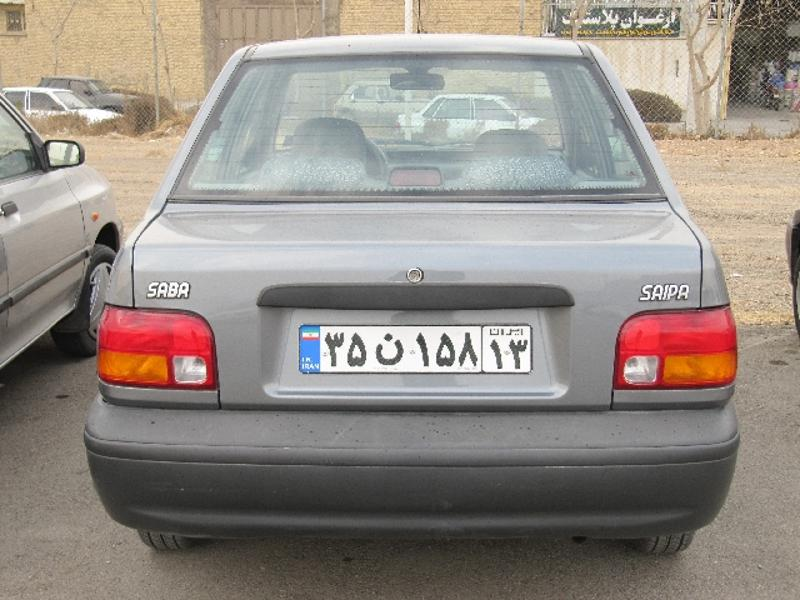Plate: (290, 318, 541, 380)
